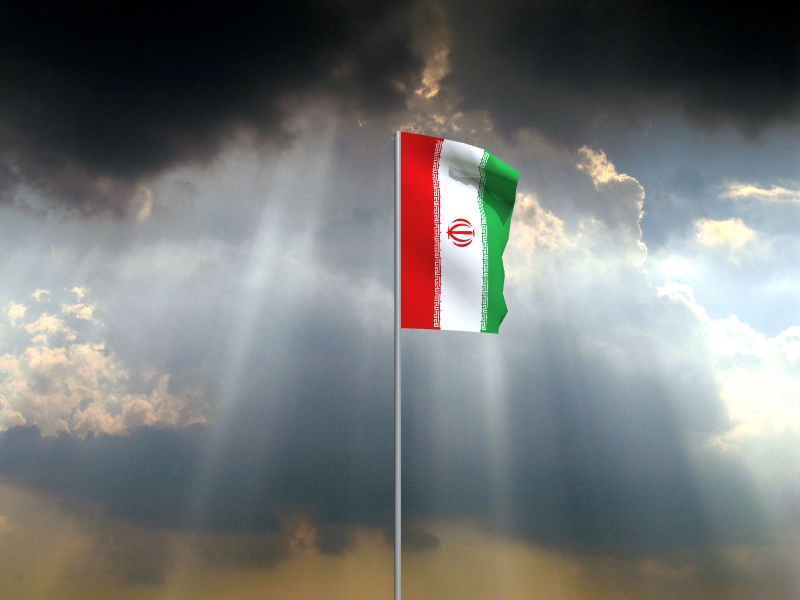ir: (401, 133, 521, 335)
